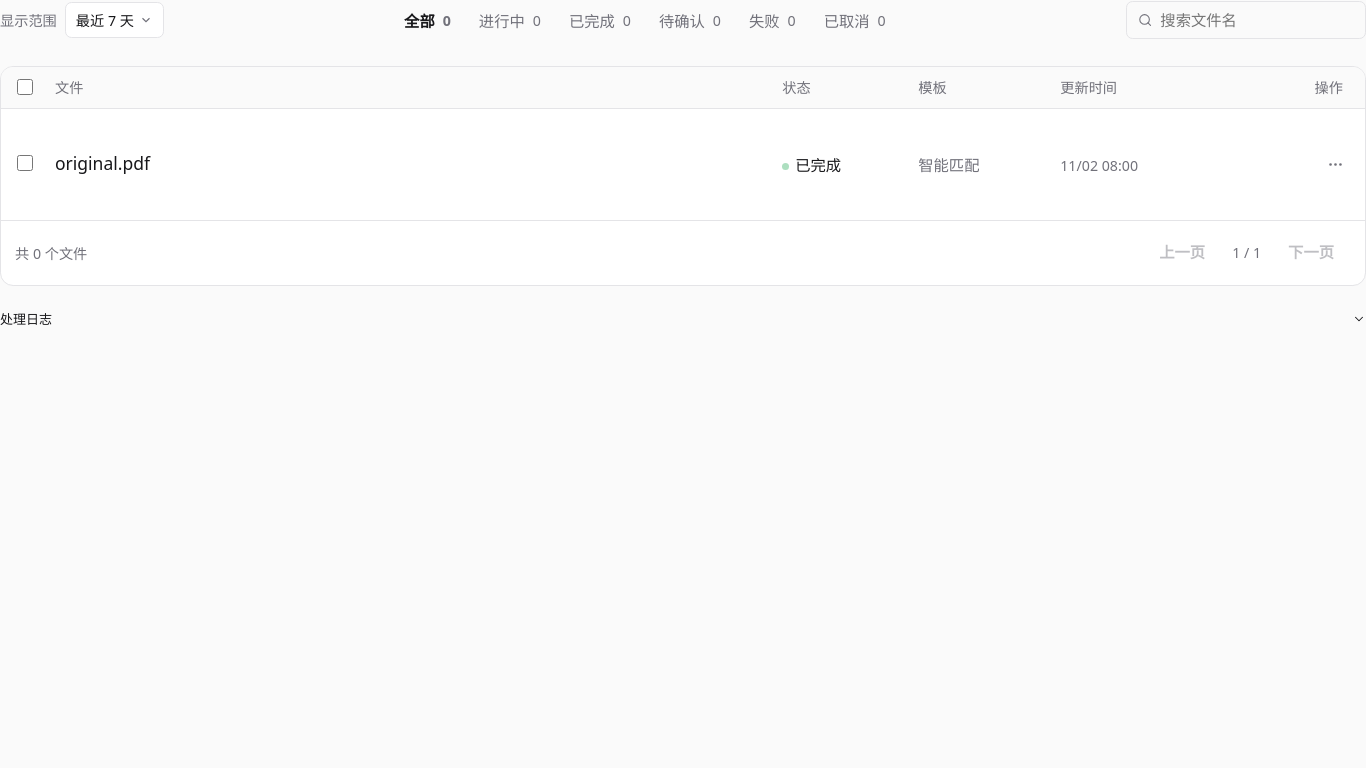
Test: independent task-list result checks › does not claim zero search results while the search count is unknown or its read fails
Expected: the text "original.pdf" is shown, [55,151,150,175]
Type "needle" into the field named "搜索任务文件名" at (1257, 20), box [1160,10,1354,30]
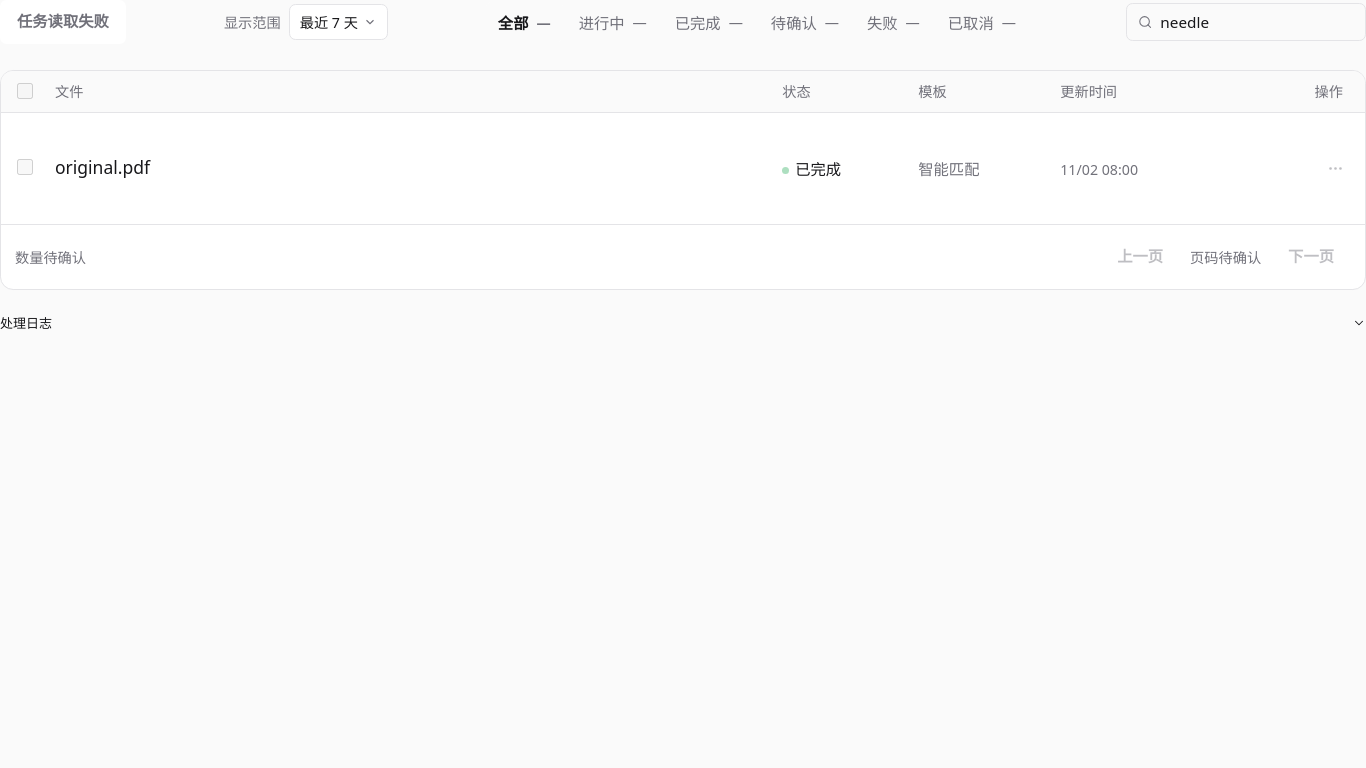
Expected: the text "—" is shown 6 times, [536,12,551,32]; [632,12,647,32]; [729,12,743,32]; [825,12,839,32]; [906,12,920,32]; [1002,12,1016,32]
Result: the text "共 0 个文件" is gone
Click the button "任务读取失败" at (63, 22), box [0,0,126,44]
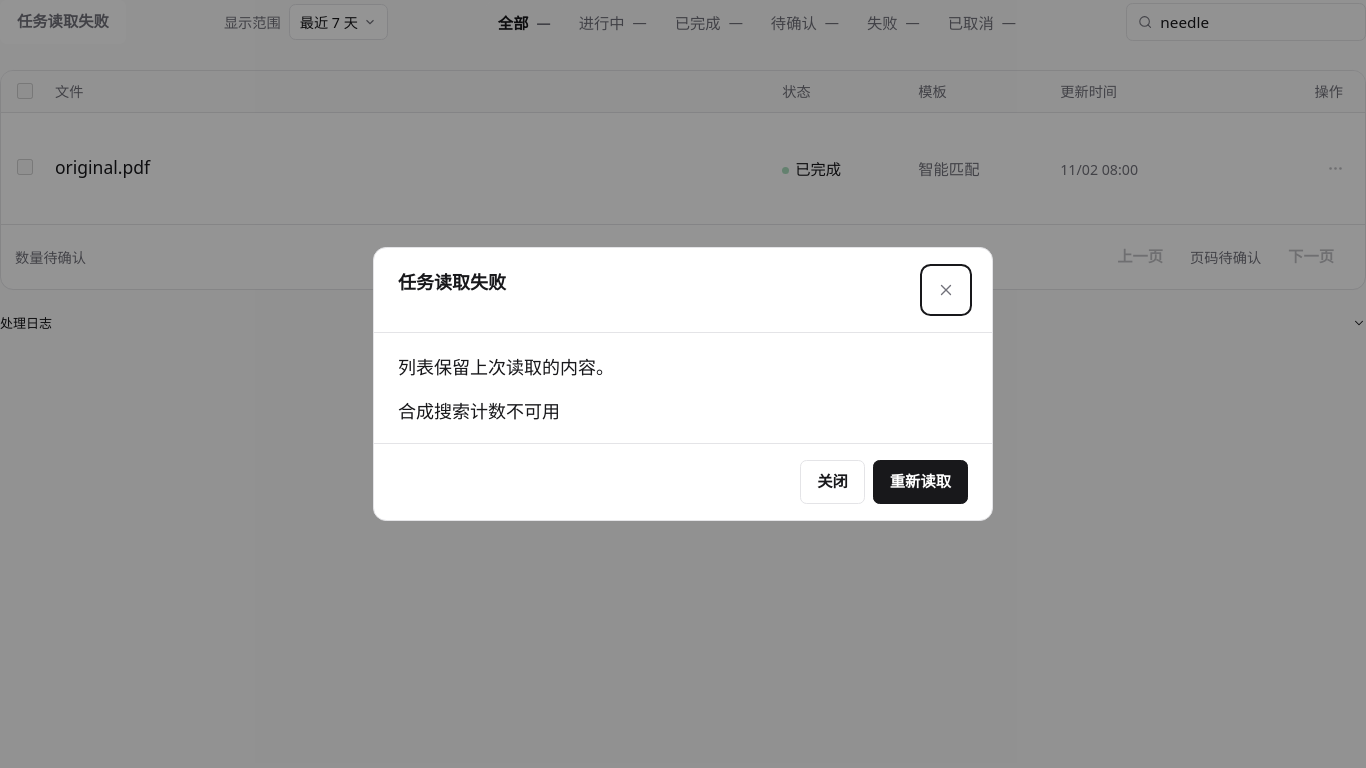
Expected: the text "—" is shown 6 times, [536,12,551,32]; [632,12,647,32]; [729,12,743,32]; [825,12,839,32]; [906,12,920,32]; [1002,12,1016,32]
Result: the dialog "任务读取失败" shows "合成搜索计数不可用" at [398,399,560,423]
